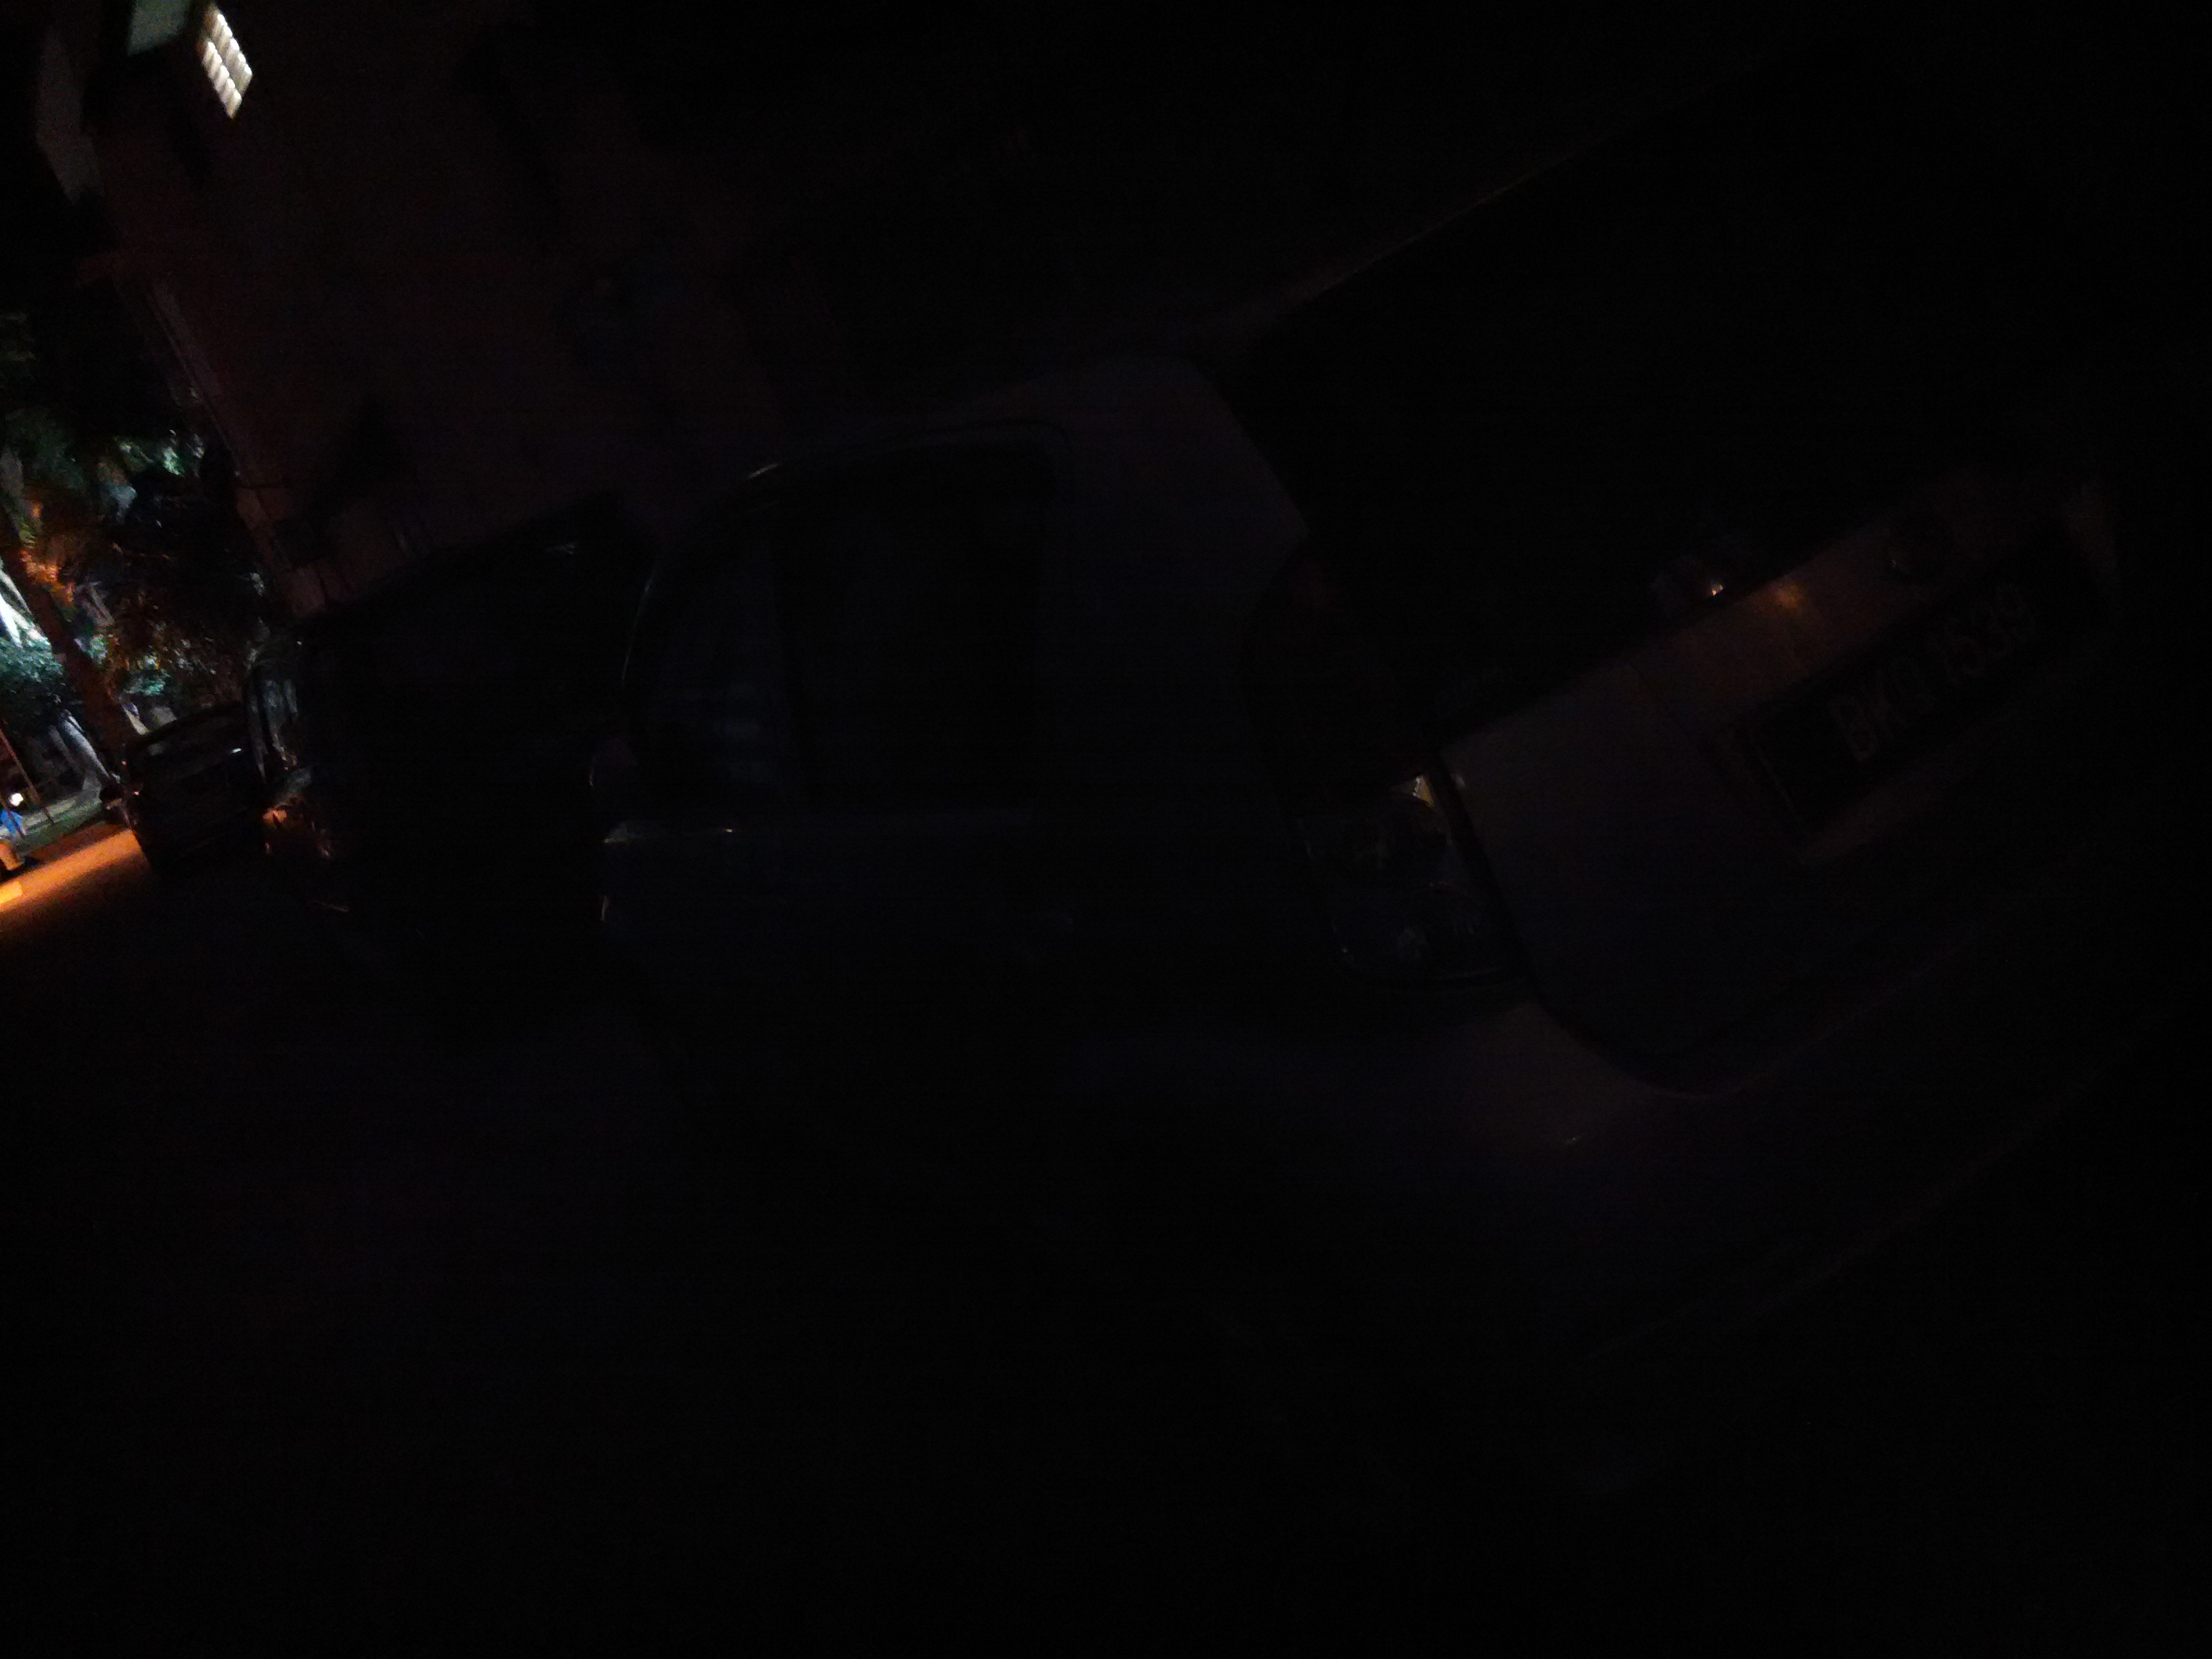car: (101, 695, 293, 887)
